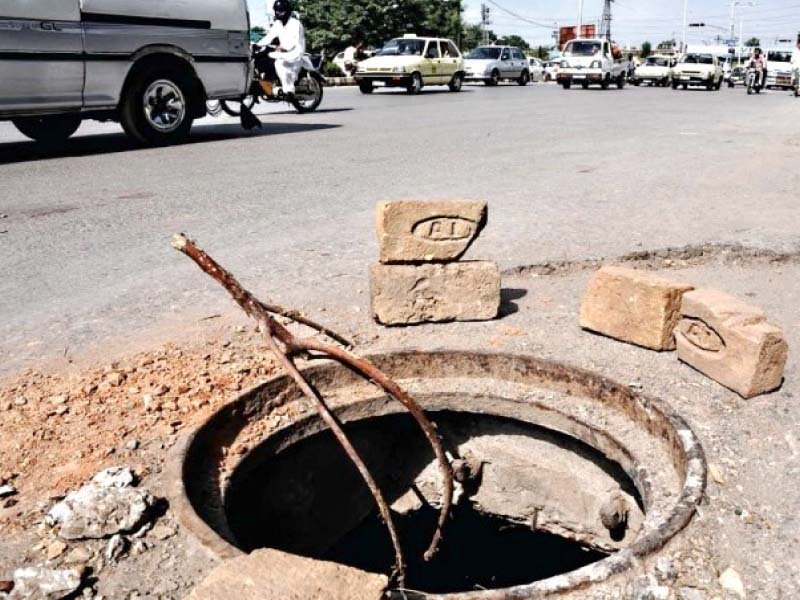Car: (1, 3, 248, 135), (331, 28, 471, 93), (538, 34, 633, 91), (453, 42, 541, 96), (677, 47, 728, 97), (629, 47, 678, 90)
Open_manhole: (129, 302, 720, 590)
